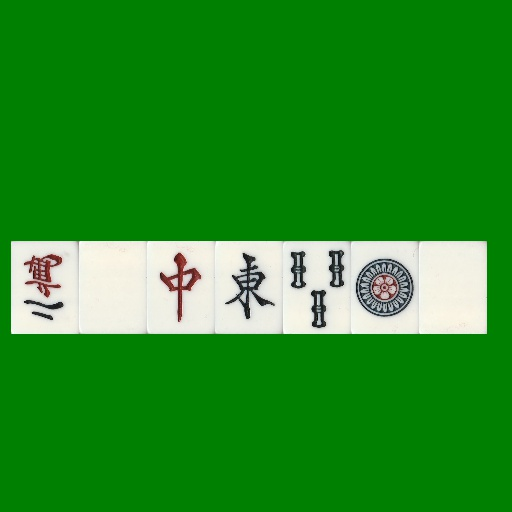1p: (351, 241, 419, 334)
2m: (11, 241, 79, 334)
3s: (283, 241, 351, 334)
east: (215, 241, 283, 334)
tyun: (147, 241, 215, 334)
white: (79, 241, 147, 334), (419, 241, 487, 334)
